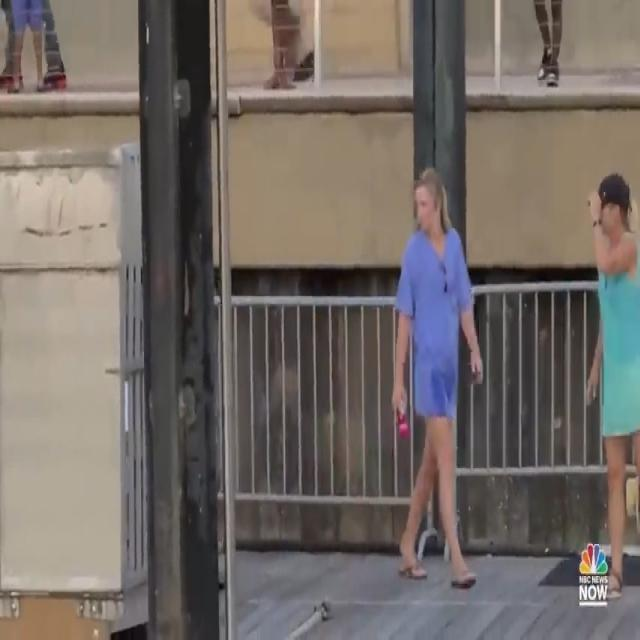non-fight: (370, 154, 492, 611), (568, 155, 640, 612)
